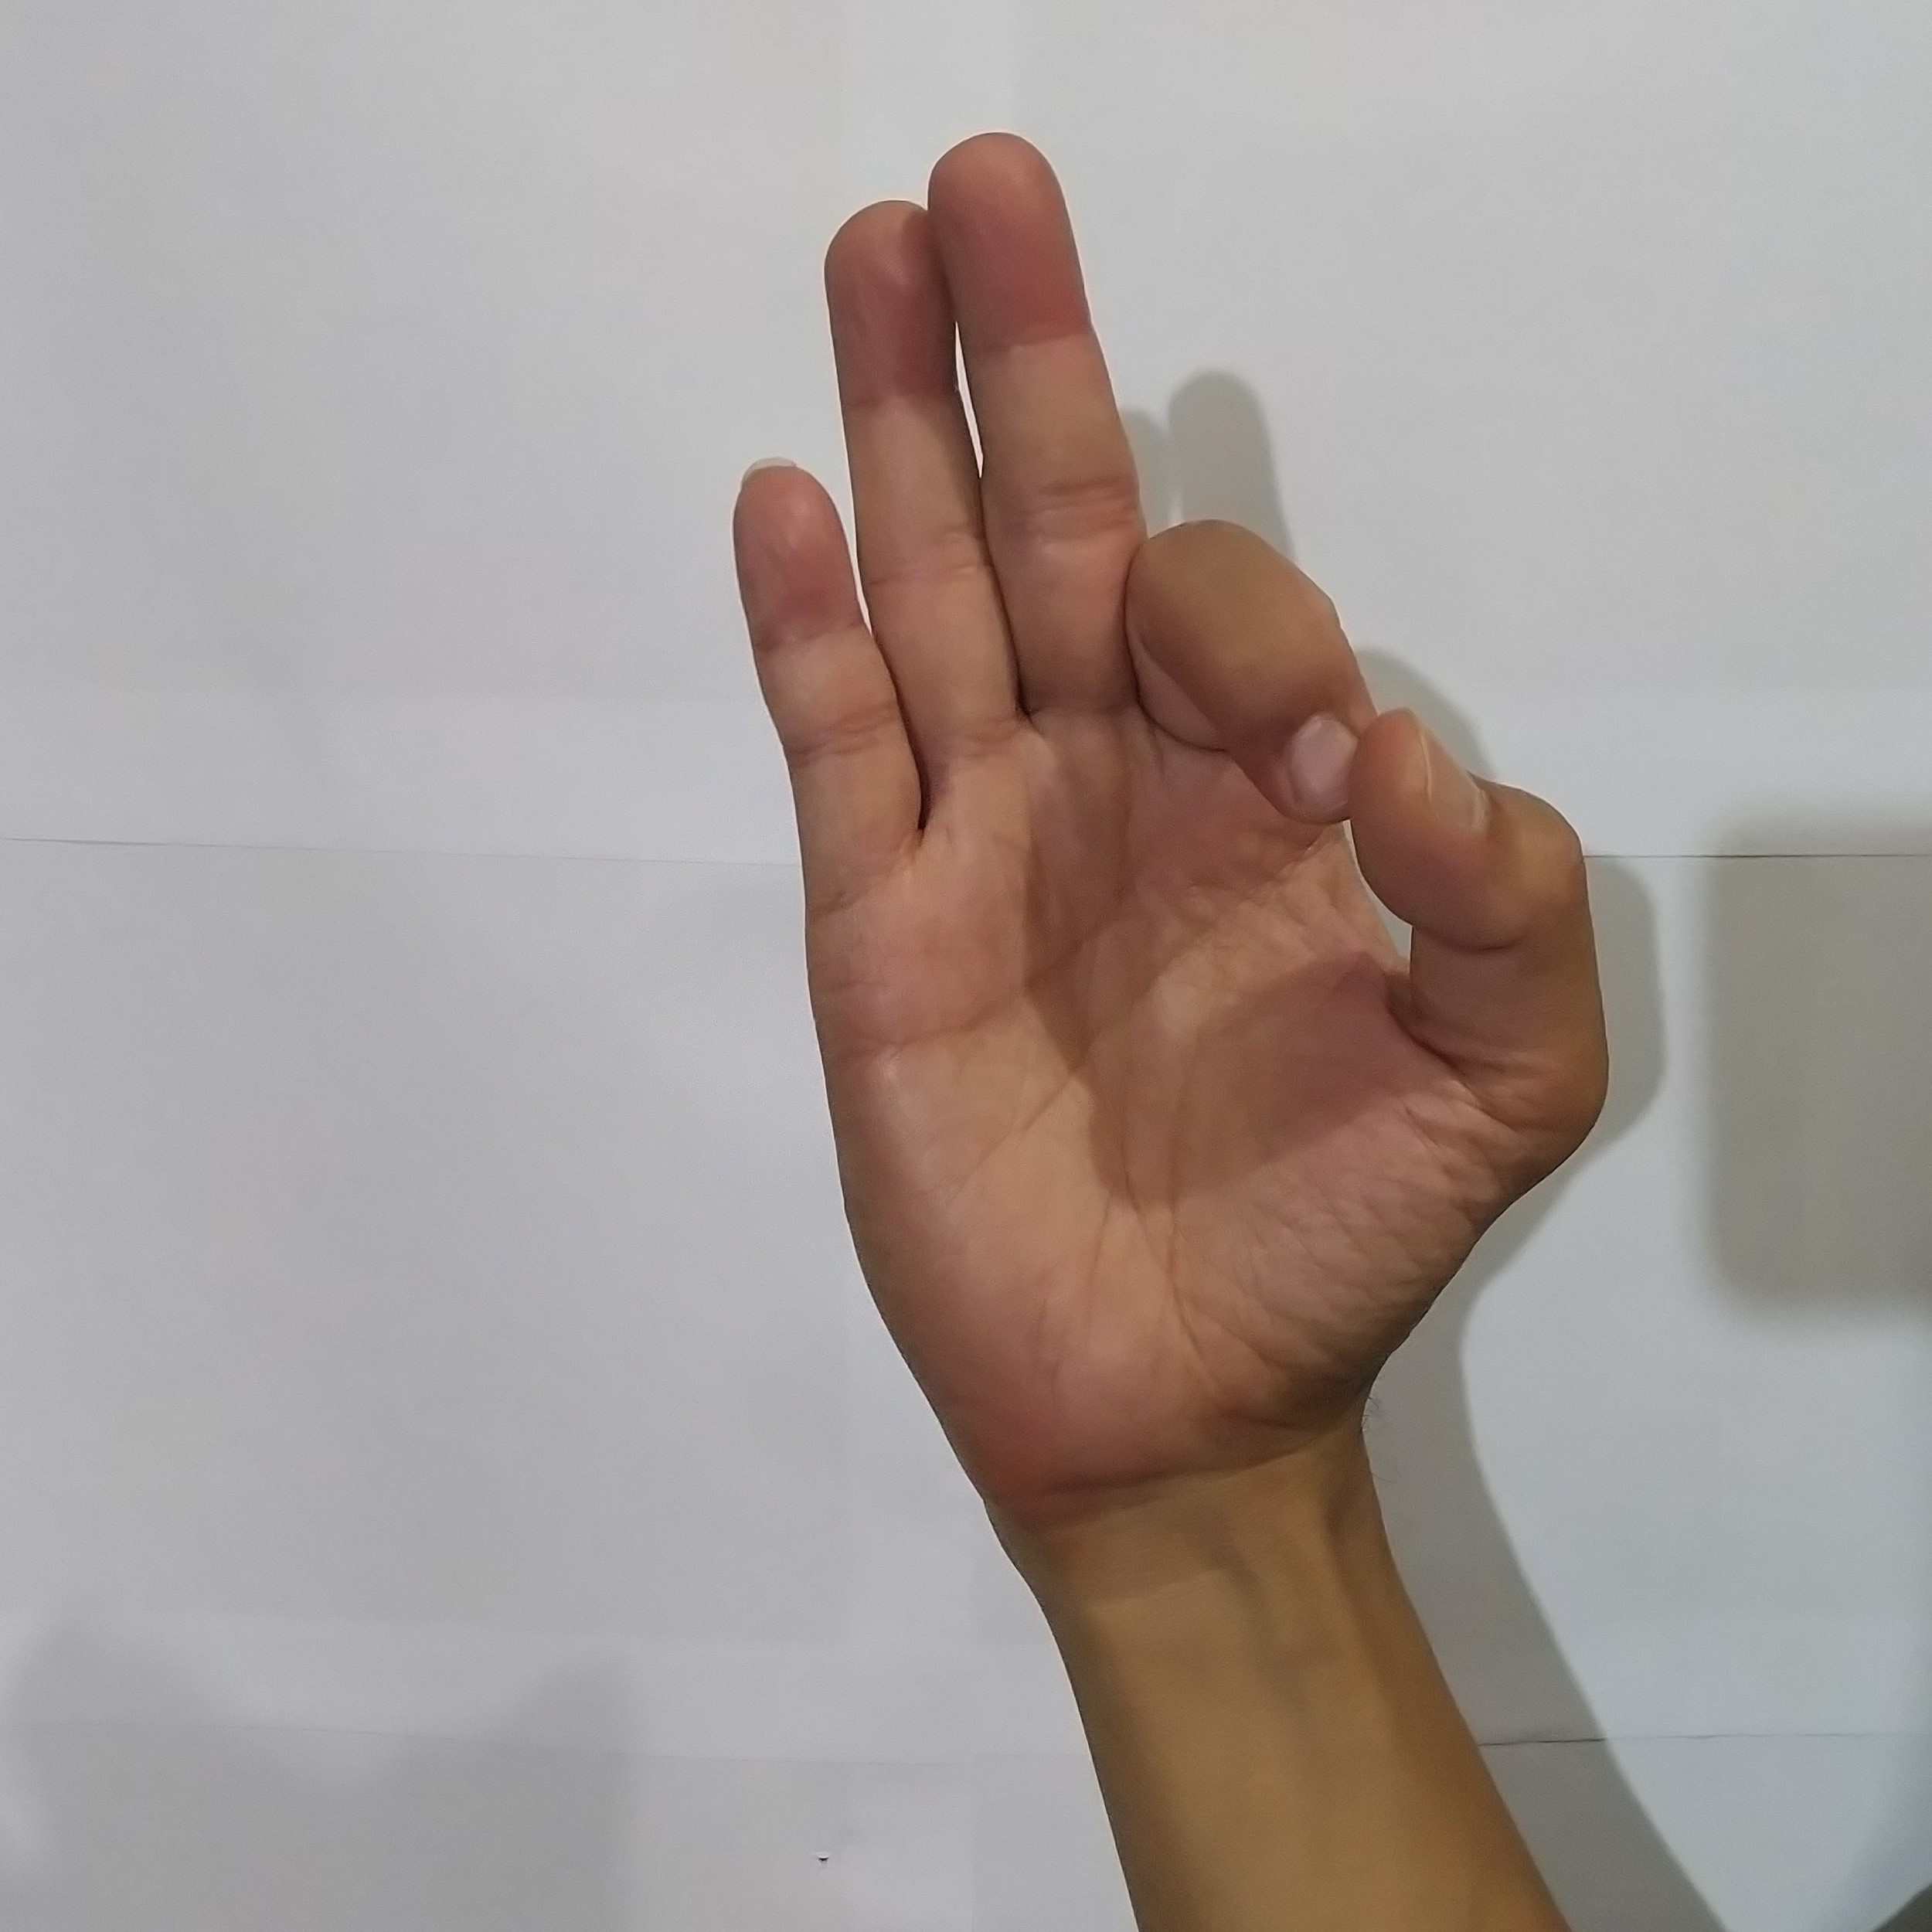F: (711, 113, 1635, 1410)
